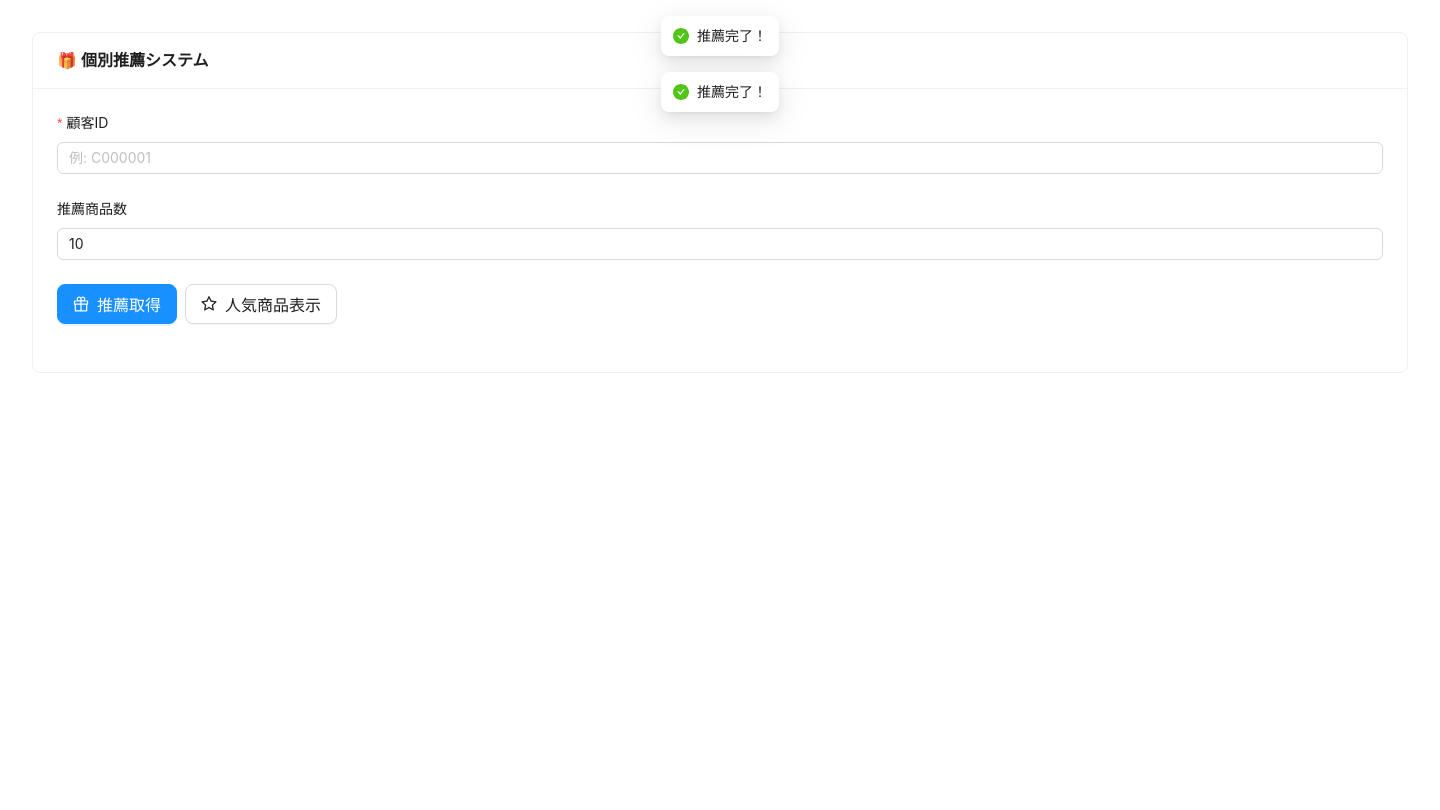
RecommendPage › loads popular recommendations when popular button is clicked
Click the button "人気商品表示": click(261, 304) [185,284,337,324]
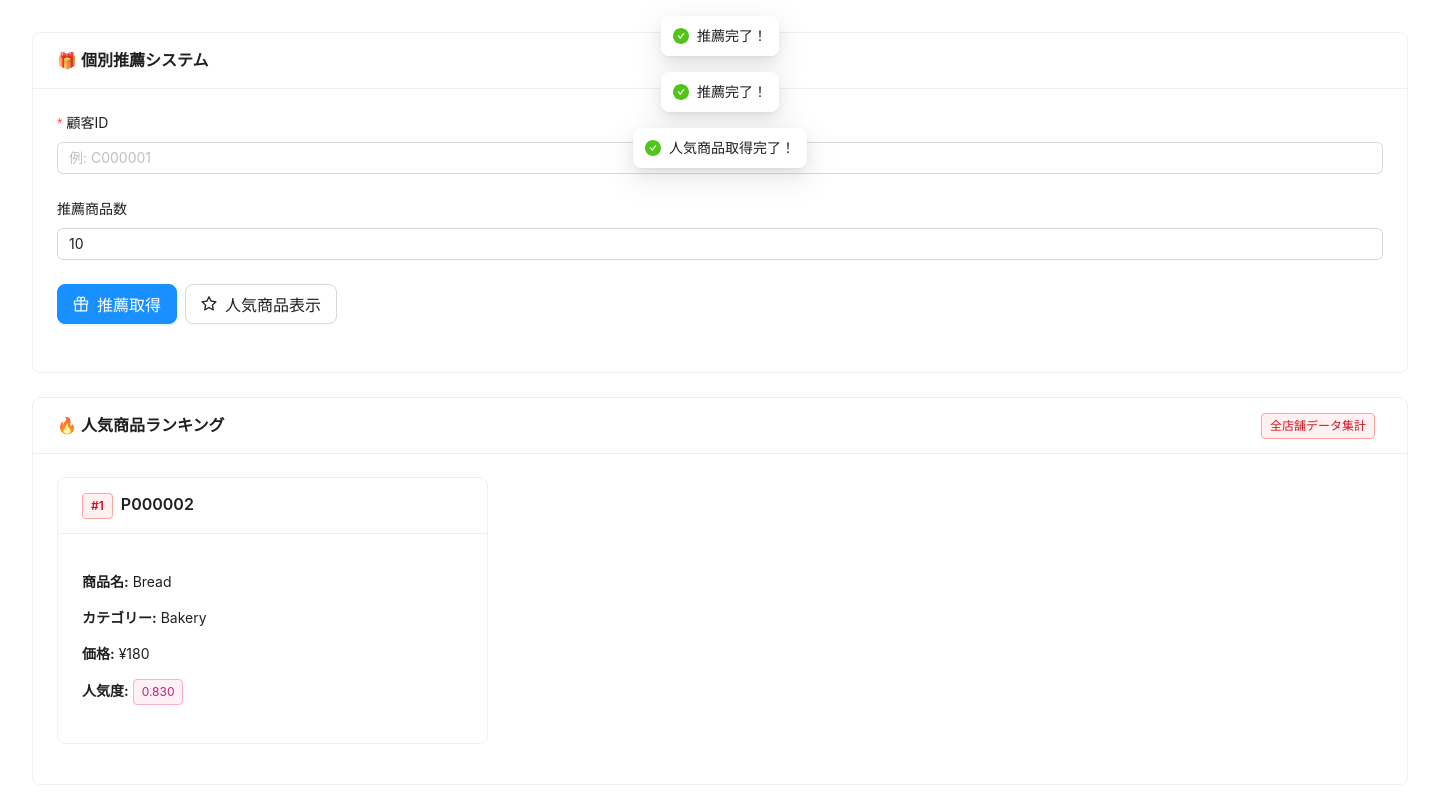
Expected: the text "P000002" is shown, [121,494,194,514]
